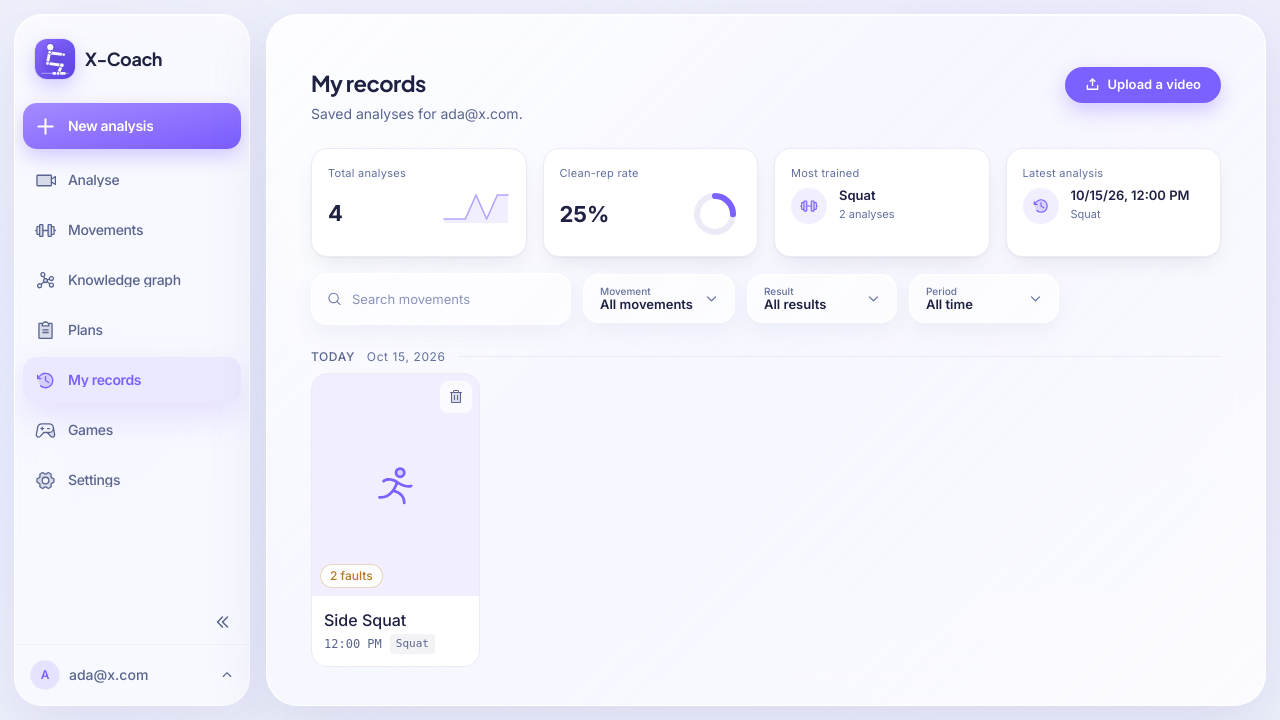
History — filters › filters by movement
Check: the text "Total analyses" is shown, box [328,166,406,180]
Click the button with aria-label "Movement:" at [659, 298], box [583,274,735,323]
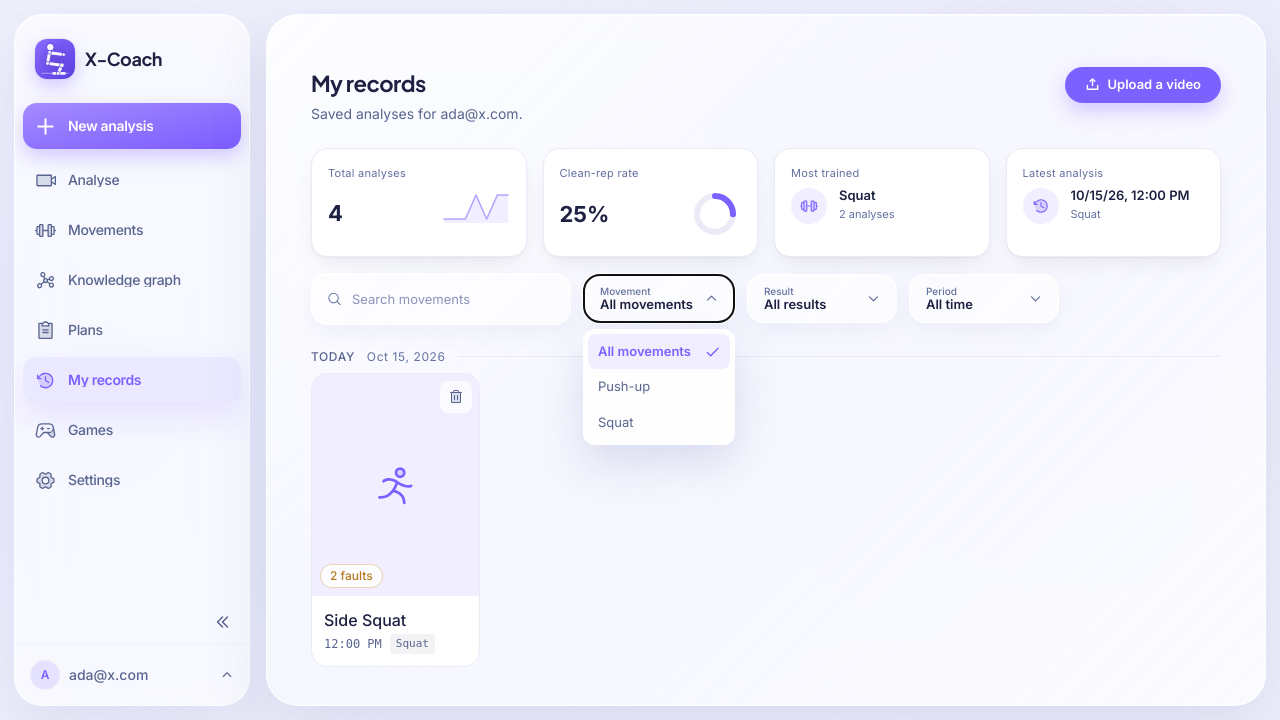
Click the menu item "Push-up" at [659, 387], box [588,369,730,405]
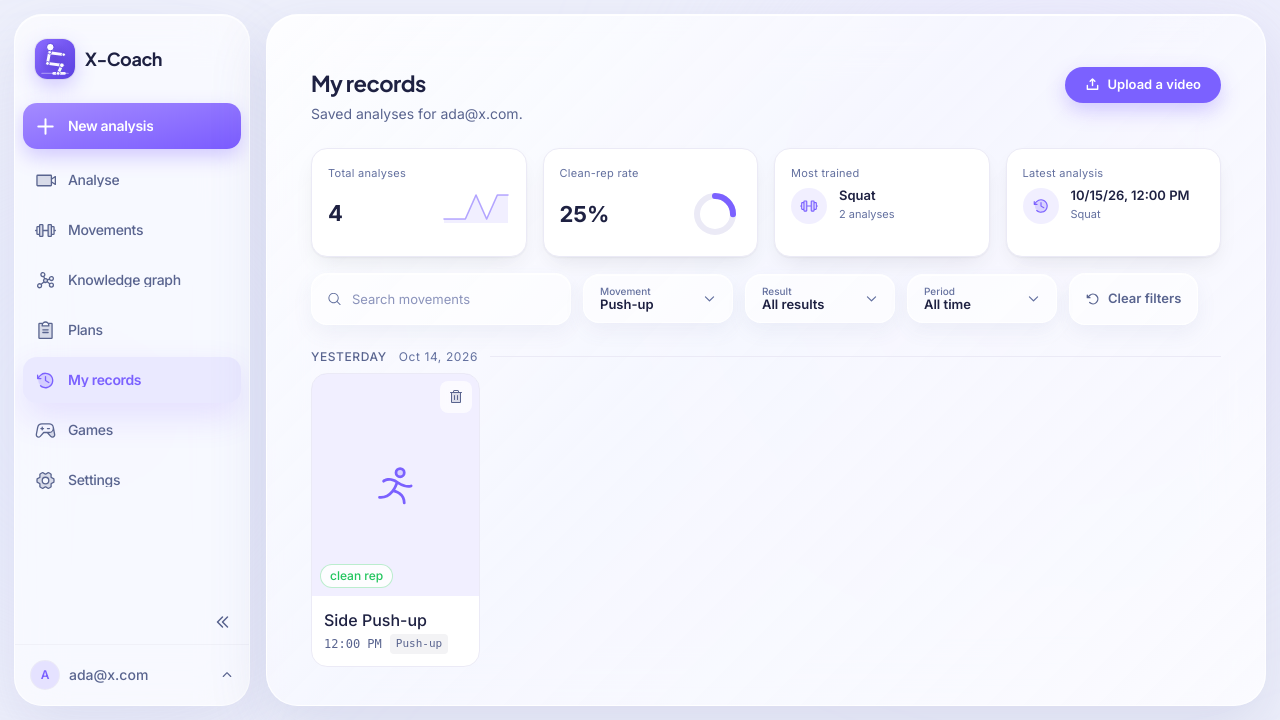
Check: the link "Side Squat" is gone
